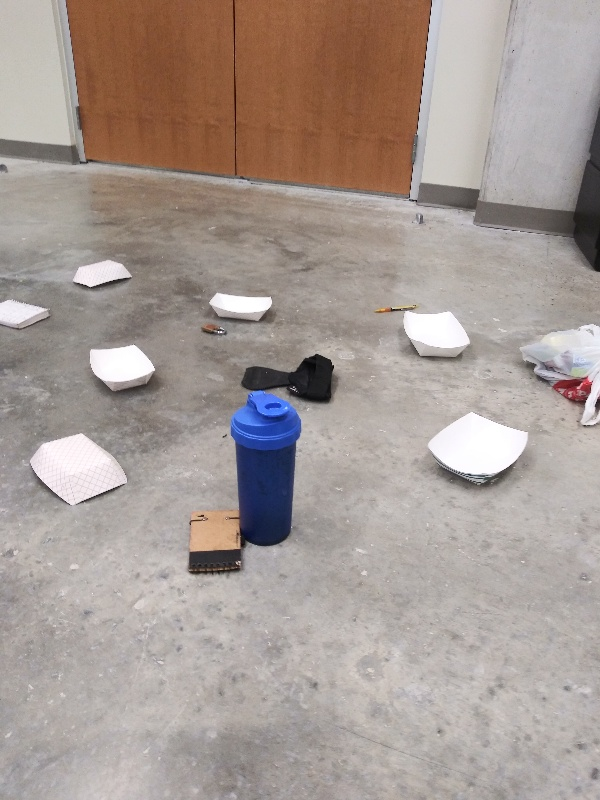plate: (423, 407, 534, 491), (23, 431, 135, 511), (398, 305, 474, 366), (82, 340, 157, 397), (204, 288, 279, 325), (68, 256, 138, 289)
